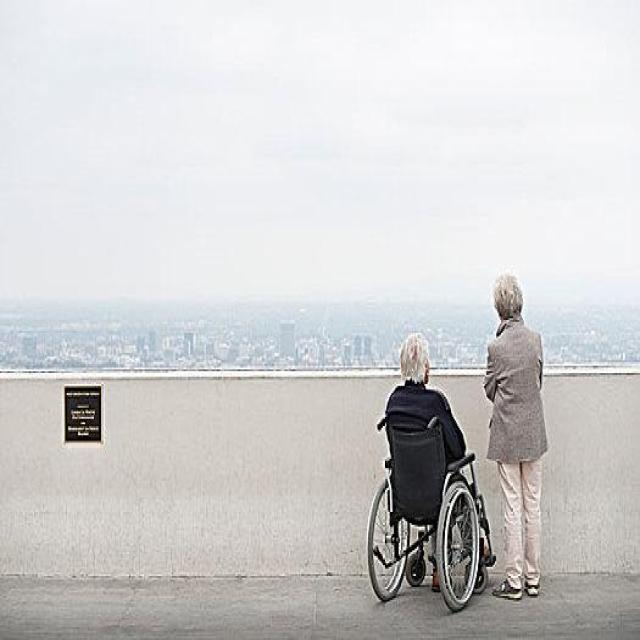wheelchairs: (347, 405, 499, 618)
